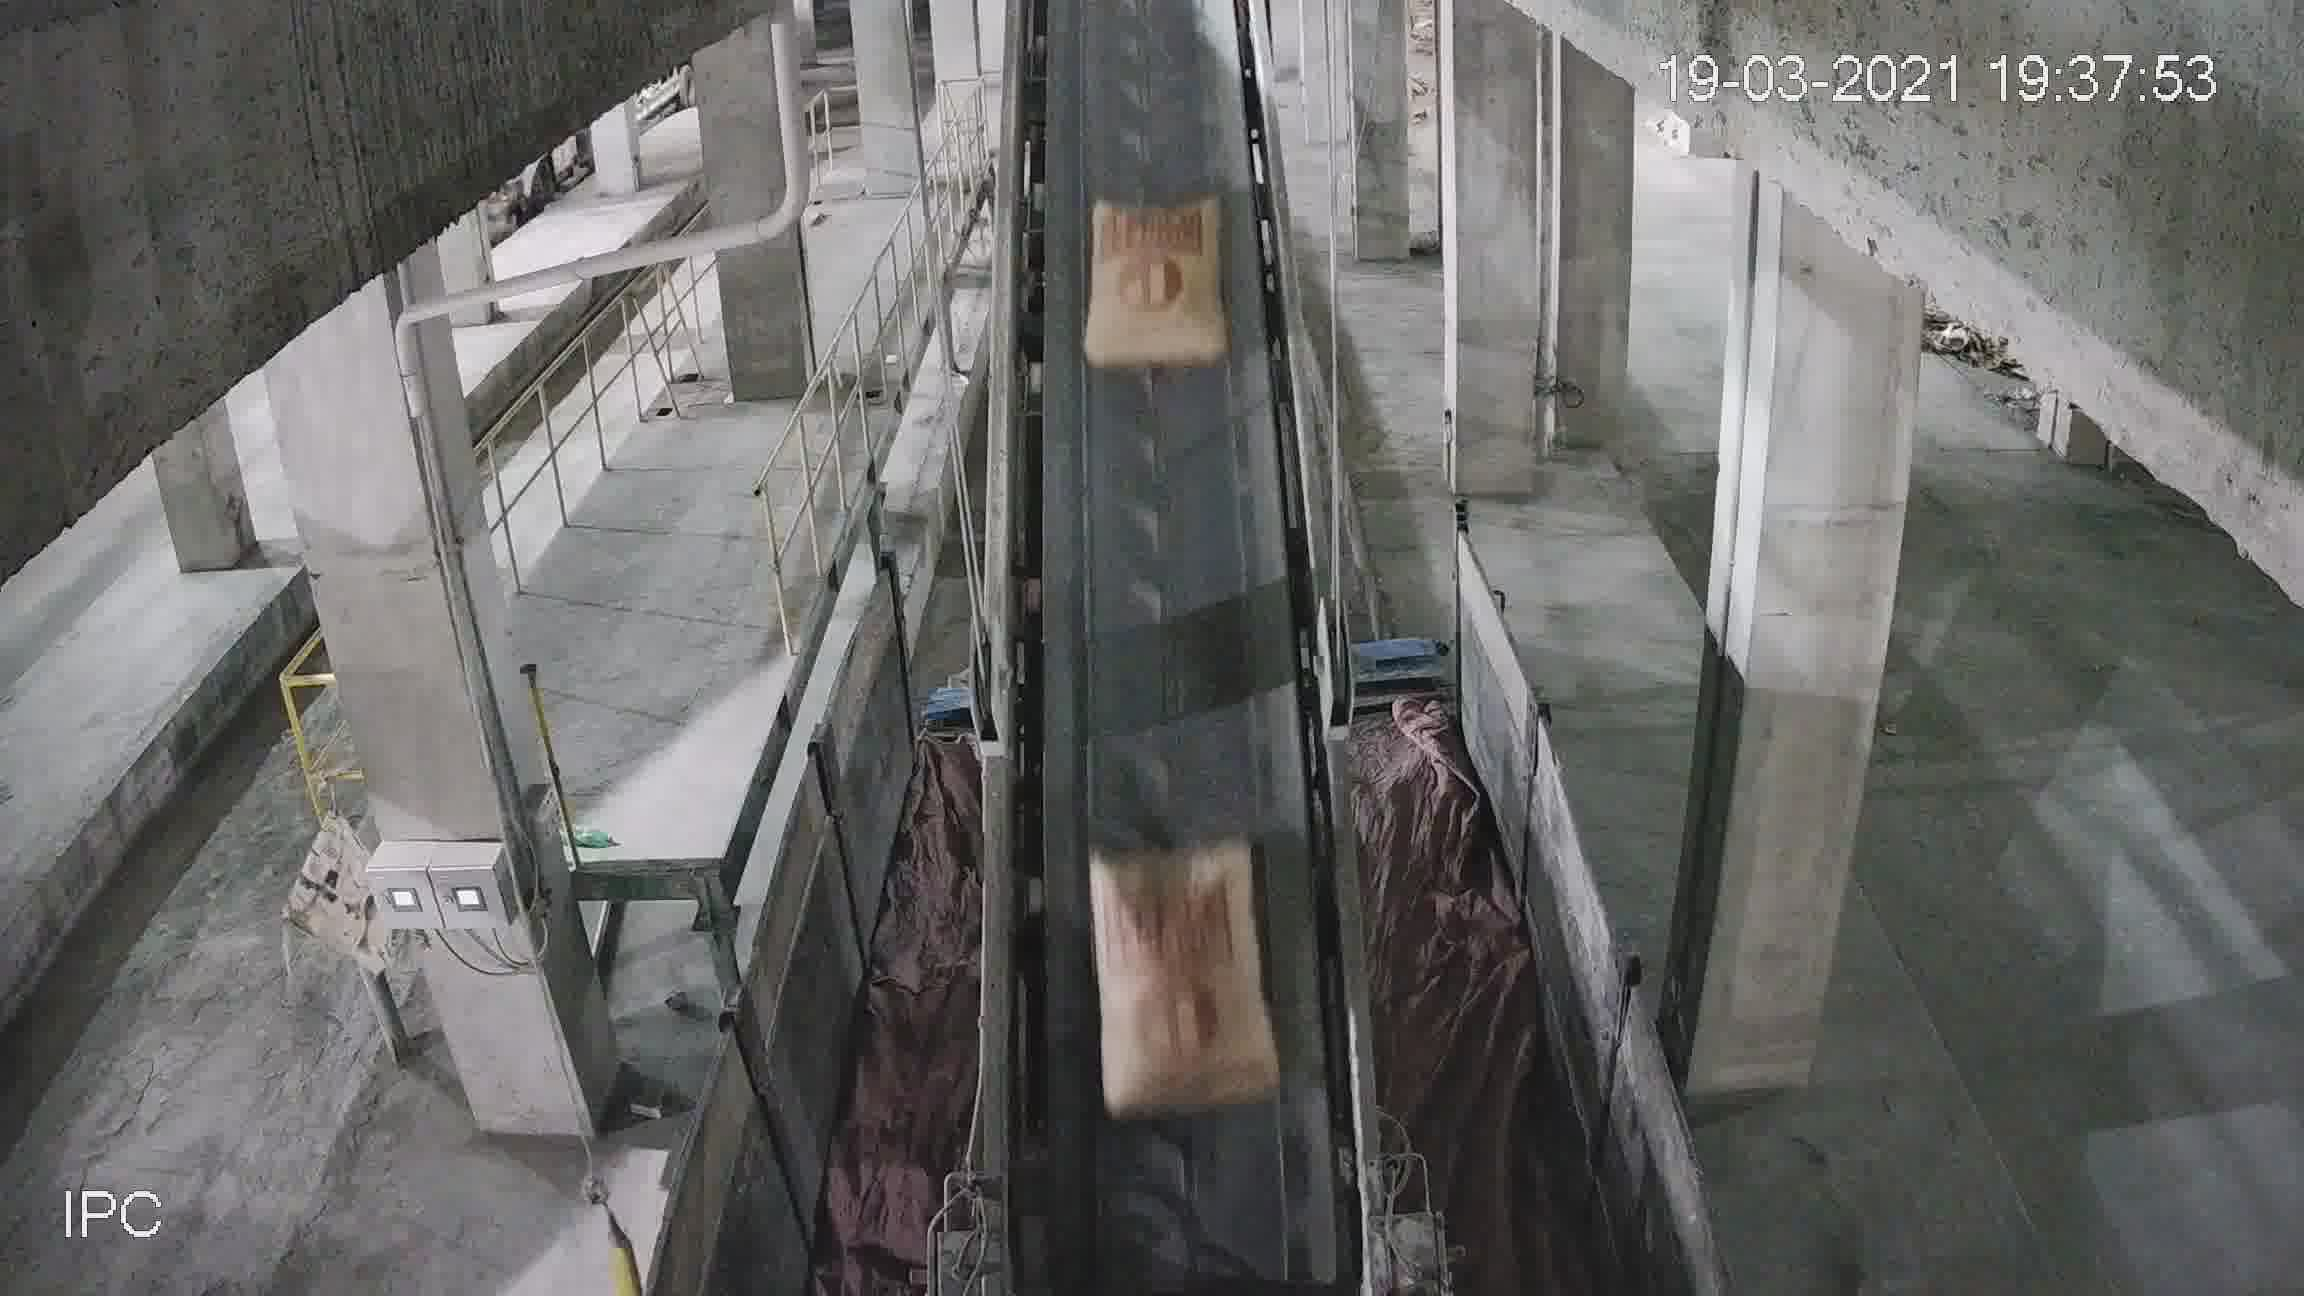bag: (1093, 843, 1268, 1109), (1086, 198, 1225, 375)
belt: (981, 60, 1353, 1173)
